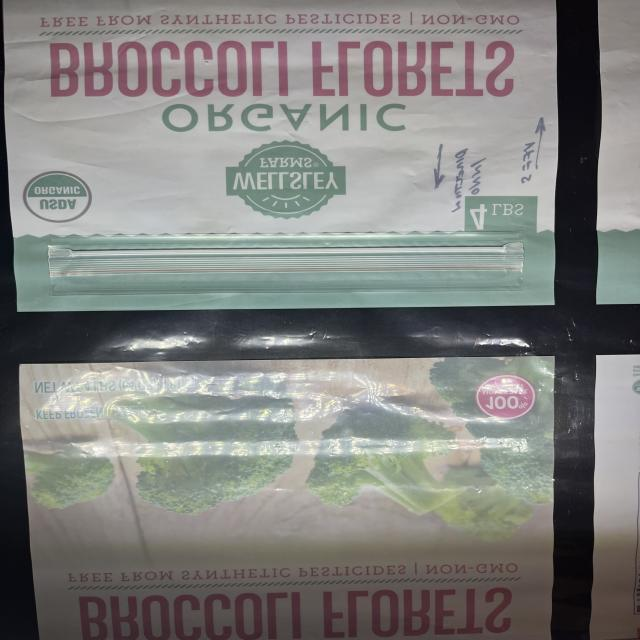zip_l: (47, 230, 524, 298)
